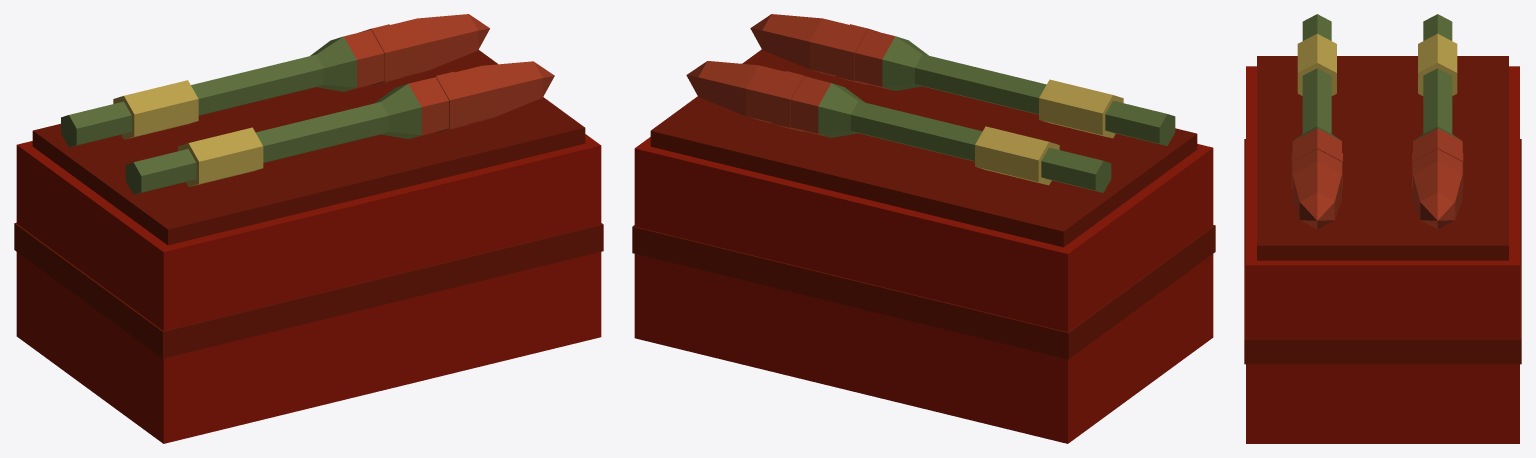
The model's file is ce_ammo2_spg9_thermo_c.obj.
The picture shows the model from 3 angles, left to right: view 1: azimuth 30°, elevation 25°; view 2: azimuth 150°, elevation 25°; view 3: azimuth 270°, elevation 25°; orthographic projection. The views are drawn at different scales.
Visible parts, largest first — view 1: ce_ammo2_spg9_thermo_c_0, ce_ammo2_spg9_thermo_c_1, ce_ammo2_spg9_thermo_c_2, ce_ammo2_spg9_thermo_c_5, ce_ammo2_spg9_thermo_c_14, ce_ammo2_spg9_thermo_c_4, ce_ammo2_spg9_thermo_c_13, ce_ammo2_spg9_thermo_c_10, ce_ammo2_spg9_thermo_c_19, ce_ammo2_spg9_thermo_c_12, ce_ammo2_spg9_thermo_c_3, ce_ammo2_spg9_thermo_c_15 (+7 smaller); view 2: ce_ammo2_spg9_thermo_c_0, ce_ammo2_spg9_thermo_c_1, ce_ammo2_spg9_thermo_c_2, ce_ammo2_spg9_thermo_c_5, ce_ammo2_spg9_thermo_c_14, ce_ammo2_spg9_thermo_c_4, ce_ammo2_spg9_thermo_c_13, ce_ammo2_spg9_thermo_c_10, ce_ammo2_spg9_thermo_c_19, ce_ammo2_spg9_thermo_c_3, ce_ammo2_spg9_thermo_c_12, ce_ammo2_spg9_thermo_c_6 (+7 smaller); view 3: ce_ammo2_spg9_thermo_c_0, ce_ammo2_spg9_thermo_c_1, ce_ammo2_spg9_thermo_c_2, ce_ammo2_spg9_thermo_c_5, ce_ammo2_spg9_thermo_c_14, ce_ammo2_spg9_thermo_c_10, ce_ammo2_spg9_thermo_c_19, ce_ammo2_spg9_thermo_c_4, ce_ammo2_spg9_thermo_c_13, ce_ammo2_spg9_thermo_c_11, ce_ammo2_spg9_thermo_c_20, ce_ammo2_spg9_thermo_c_9 (+7 smaller).
Part boxes in pixels (x1,y1,x2,y2): ce_ammo2_spg9_thermo_c_0: [16, 134, 601, 443]; ce_ammo2_spg9_thermo_c_1: [32, 50, 585, 245]; ce_ammo2_spg9_thermo_c_2: [14, 222, 603, 358]; ce_ammo2_spg9_thermo_c_5: [191, 54, 323, 115]; ce_ammo2_spg9_thermo_c_14: [255, 102, 388, 162]; ce_ammo2_spg9_thermo_c_4: [113, 80, 198, 139]; ce_ammo2_spg9_thermo_c_13: [178, 127, 263, 186]; ce_ammo2_spg9_thermo_c_10: [417, 14, 478, 69]; ce_ammo2_spg9_thermo_c_19: [482, 61, 542, 116]; ce_ammo2_spg9_thermo_c_12: [125, 149, 196, 194]; ce_ammo2_spg9_thermo_c_3: [61, 101, 131, 147]; ce_ammo2_spg9_thermo_c_15: [375, 84, 421, 139]; ce_ammo2_spg9_thermo_c_0: [634, 137, 1213, 443]; ce_ammo2_spg9_thermo_c_1: [650, 49, 1197, 247]; ce_ammo2_spg9_thermo_c_2: [632, 225, 1215, 359]; ce_ammo2_spg9_thermo_c_5: [851, 101, 982, 161]; ce_ammo2_spg9_thermo_c_14: [915, 54, 1046, 114]; ce_ammo2_spg9_thermo_c_4: [975, 126, 1059, 185]; ce_ammo2_spg9_thermo_c_13: [1039, 79, 1123, 138]; ce_ammo2_spg9_thermo_c_10: [698, 61, 758, 115]; ce_ammo2_spg9_thermo_c_19: [762, 14, 822, 68]; ce_ammo2_spg9_thermo_c_3: [1041, 147, 1111, 192]; ce_ammo2_spg9_thermo_c_12: [1105, 100, 1175, 145]; ce_ammo2_spg9_thermo_c_6: [818, 83, 864, 137]; ce_ammo2_spg9_thermo_c_0: [1246, 66, 1519, 443]; ce_ammo2_spg9_thermo_c_1: [1257, 56, 1508, 260]; ce_ammo2_spg9_thermo_c_2: [1244, 139, 1521, 364]; ce_ammo2_spg9_thermo_c_5: [1423, 68, 1452, 133]; ce_ammo2_spg9_thermo_c_14: [1302, 68, 1331, 133]; ce_ammo2_spg9_thermo_c_10: [1413, 161, 1462, 219]; ce_ammo2_spg9_thermo_c_19: [1292, 161, 1341, 219]; ce_ammo2_spg9_thermo_c_4: [1418, 33, 1457, 95]; ce_ammo2_spg9_thermo_c_13: [1297, 33, 1336, 95]; ce_ammo2_spg9_thermo_c_11: [1420, 193, 1455, 229]; ce_ammo2_spg9_thermo_c_20: [1299, 193, 1334, 229]; ce_ammo2_spg9_thermo_c_9: [1413, 149, 1462, 174].
Bounding box in the file's own units: 0.866 × 0.4962 × 0.506.
